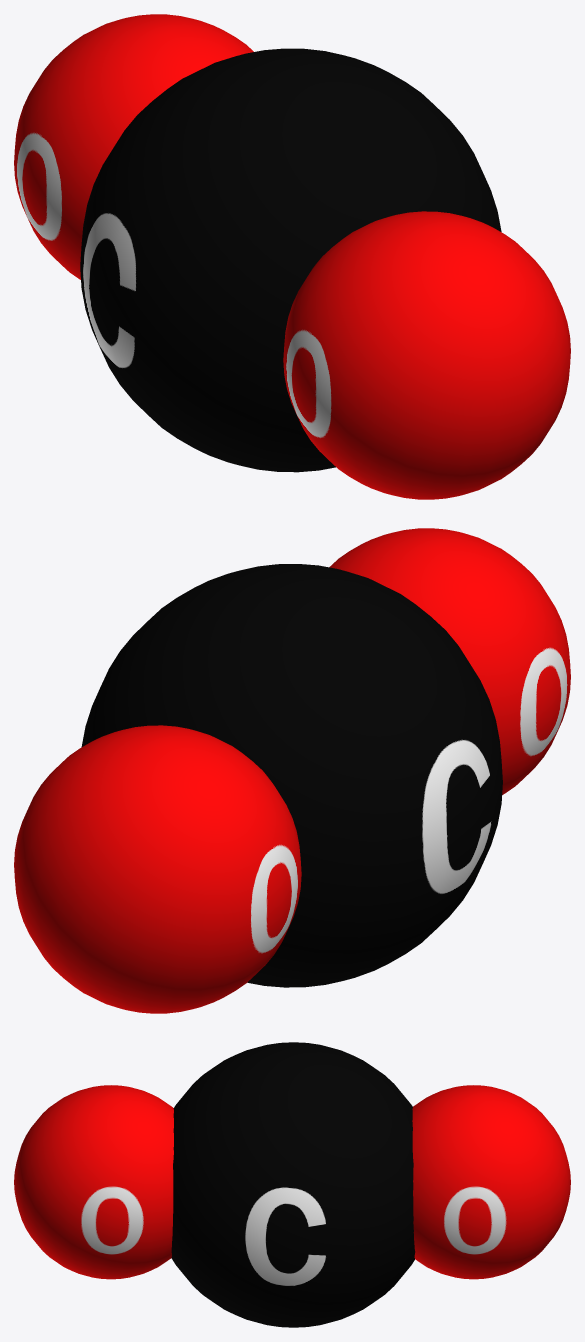
The model's file is CO2_Molecule.fbx.
3 views of the same model, one above another, from view 1: azimuth 30°, elevation 25°; view 2: azimuth 150°, elevation 25°; view 3: azimuth 270°, elevation 25° (orthographic). The views are drawn at different scales.
Visible parts, largest first — view 1: CO2_Molecule; view 2: CO2_Molecule; view 3: CO2_Molecule.
Part boxes in pixels (x1,y1,x2,y2): CO2_Molecule: (14, 14, 570, 499); CO2_Molecule: (14, 528, 570, 1013); CO2_Molecule: (14, 1042, 570, 1327).
Size of the model in its own units: 206 by 206 by 402.
